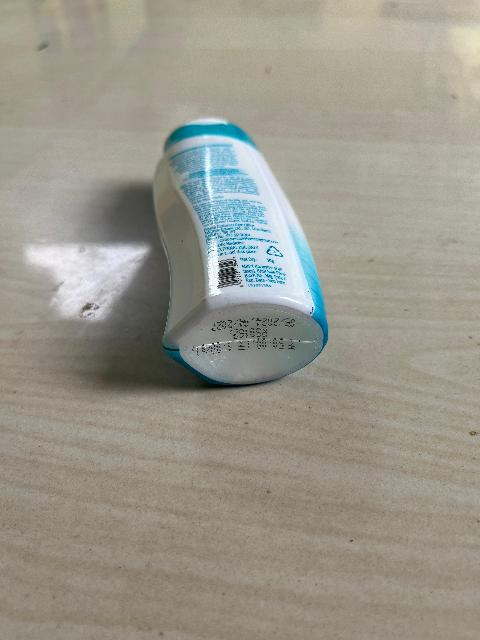boroplus: (156, 121, 335, 390)
